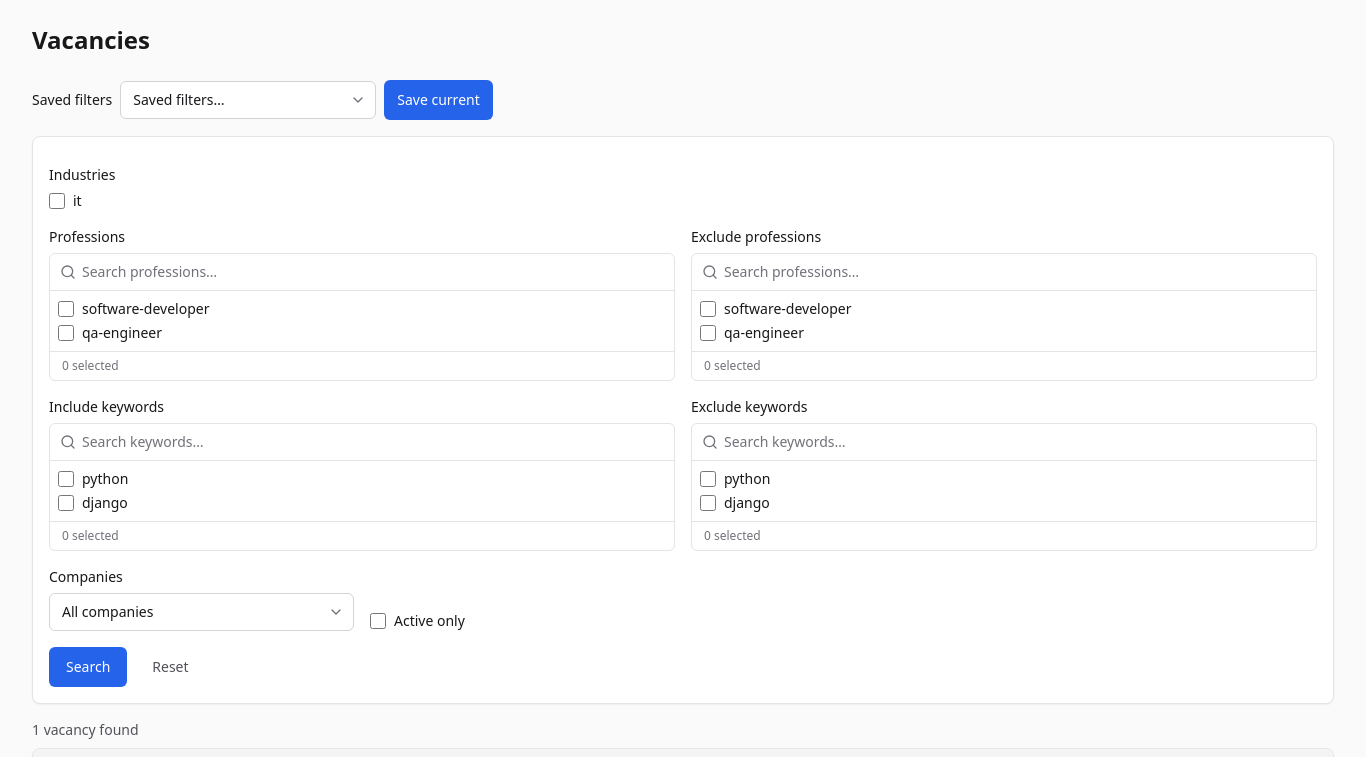
VacancyList saved filters › writes the preset params into the URL on select
This screenshot has width=1366, height=757.
Select "Python IT" in the dropdown labelled "Saved filters" at (248, 100), box 120,81 -> 376,119
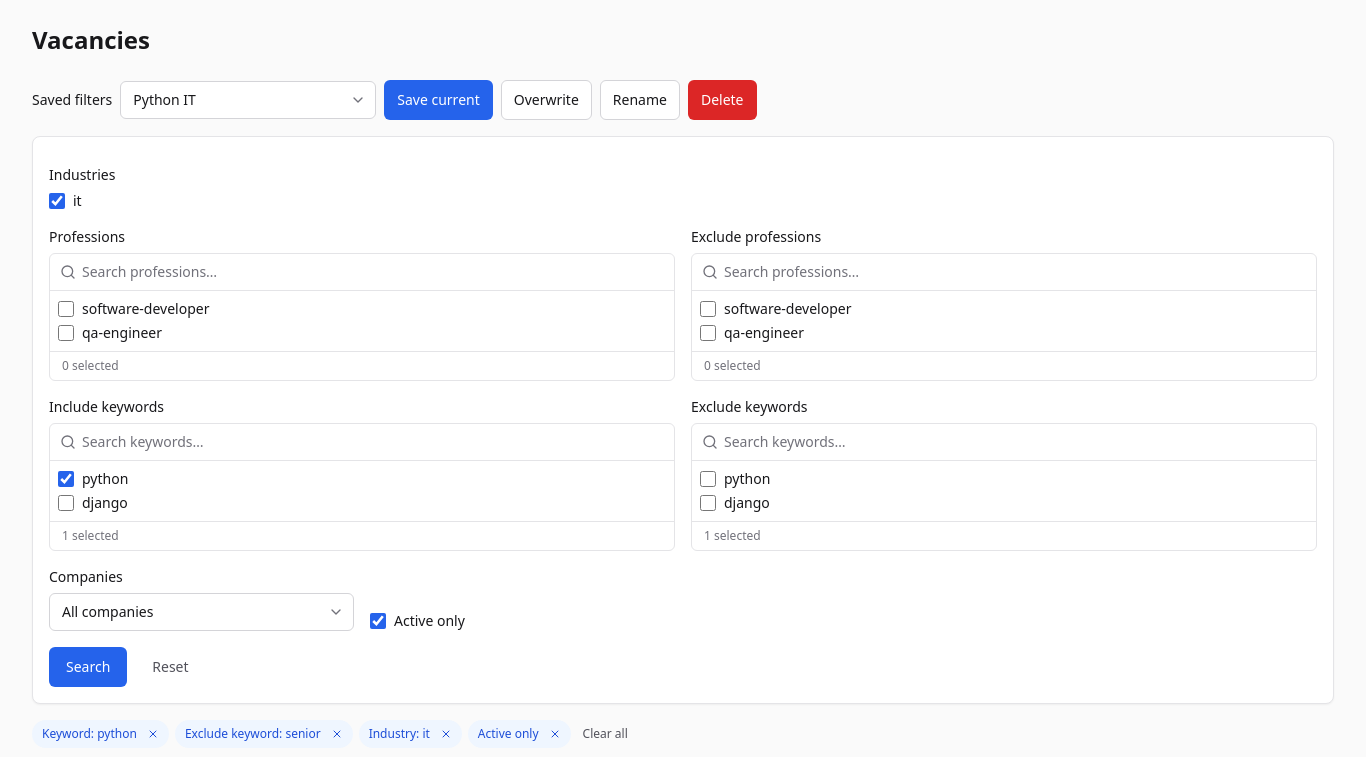
Check: the checkbox labelled "python" below "Include keywords" is checked, box 58,471 -> 74,487
Check: the checkbox labelled "it" is checked, box 49,193 -> 65,209
Check: the checkbox labelled "Active only" is checked, box 370,613 -> 386,629
